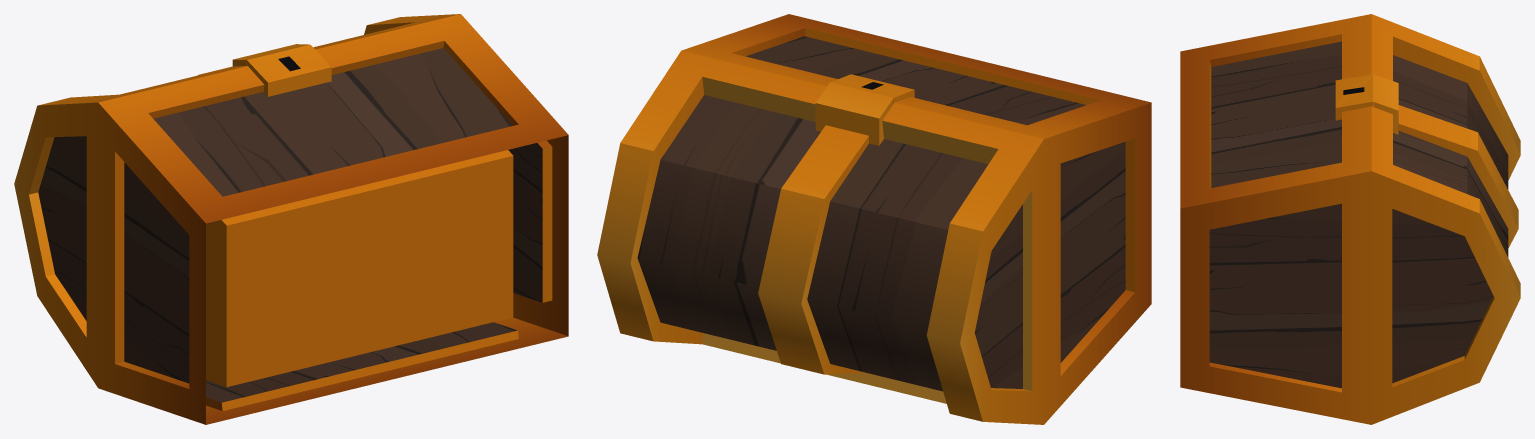
Rendered from Chest 03.FBX.
3 views of the same model, side by side, from view 1: azimuth 30°, elevation 25°; view 2: azimuth 150°, elevation 25°; view 3: azimuth 270°, elevation 25° (orthographic). The views are drawn at different scales.
Visible parts, largest first — view 1: Chest 03, Chest 03 Cover; view 2: Chest 03 Cover, Chest 03; view 3: Chest 03, Chest 03 Cover.
Part boxes in pixels (x1=…): Chest 03: x1=98, y1=14, x2=568, y2=424; Chest 03 Cover: x1=14, y1=14, x2=459, y2=387; Chest 03 Cover: x1=597, y1=50, x2=1043, y2=424; Chest 03: x1=682, y1=14, x2=1151, y2=424; Chest 03: x1=1180, y1=14, x2=1372, y2=424; Chest 03 Cover: x1=1371, y1=14, x2=1520, y2=424.
Size of the model in its own units: 106 by 81.41 by 97.2.
